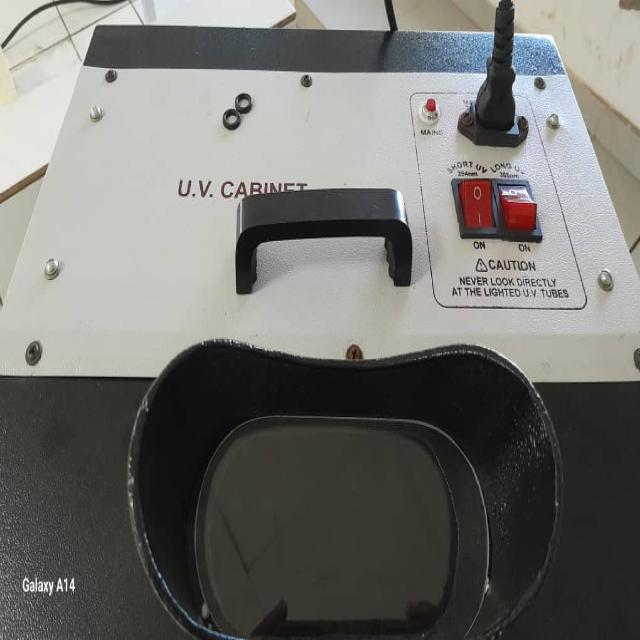U.V Cabinet: (89, 24, 640, 640)
